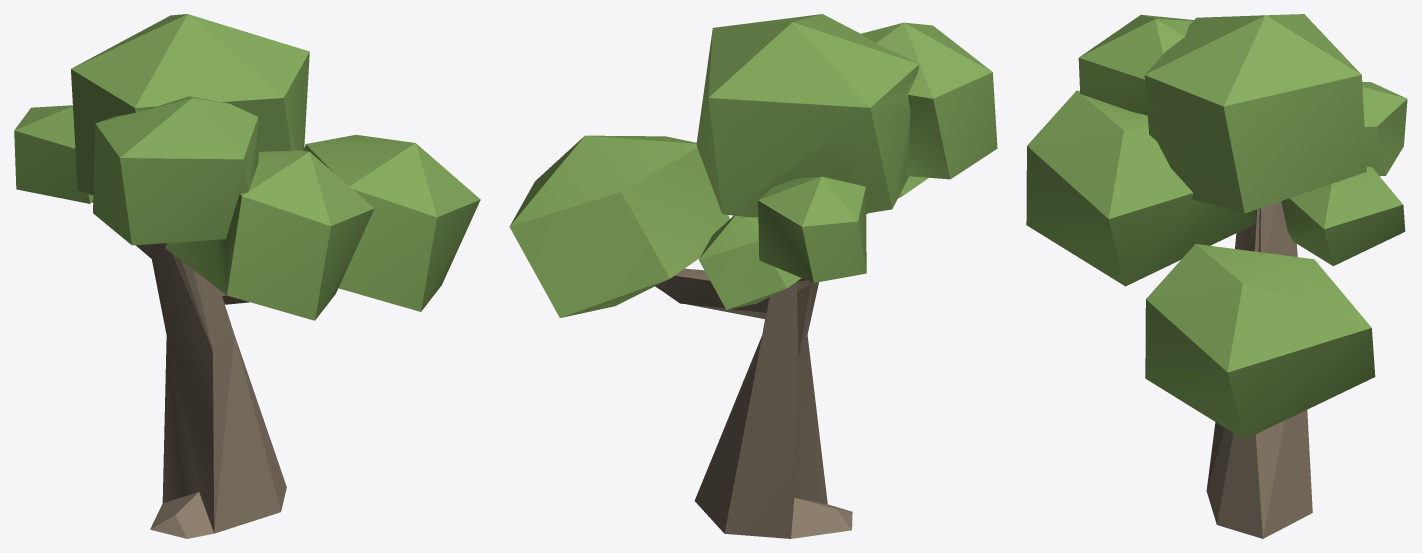
The model's file is Vegetation_Tree_Common_02.fbx.
3 renders of one model, left to right at view 1: azimuth 30°, elevation 25°; view 2: azimuth 150°, elevation 25°; view 3: azimuth 270°, elevation 25°, orthographic. The views are drawn at different scales.
Visible parts, largest first — view 1: Vegetation_Tree_Common_02; view 2: Vegetation_Tree_Common_02; view 3: Vegetation_Tree_Common_02.
Boxes of the visible parts, left/top/right/bottom form: Vegetation_Tree_Common_02: left=14, top=14, right=480, bottom=538; Vegetation_Tree_Common_02: left=509, top=14, right=997, bottom=538; Vegetation_Tree_Common_02: left=1026, top=14, right=1407, bottom=538.
Size of the model in its own units: 181 by 211 by 153.
